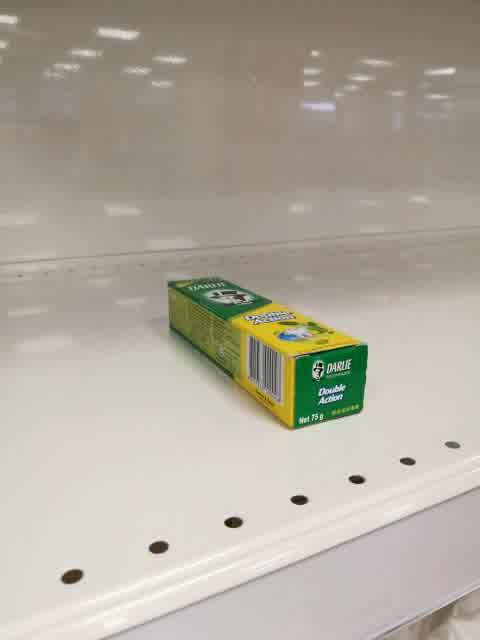toothpaste: (168, 277, 368, 431)
